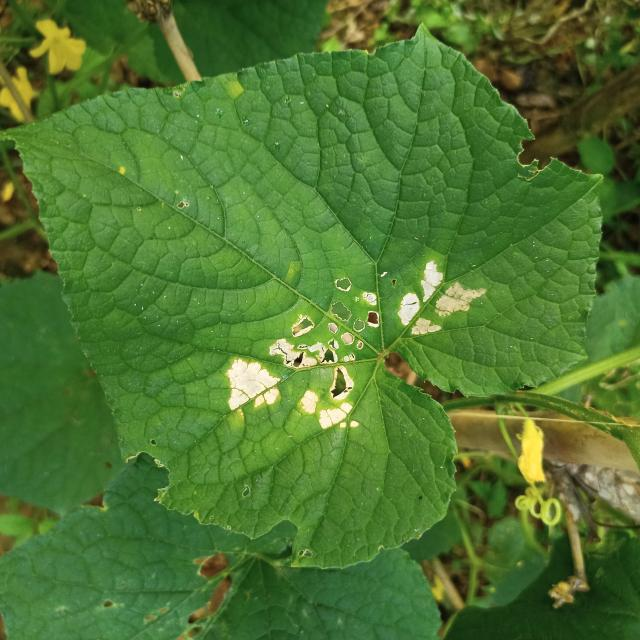disease_cucumber: (220, 265, 380, 436), (389, 258, 492, 344)
